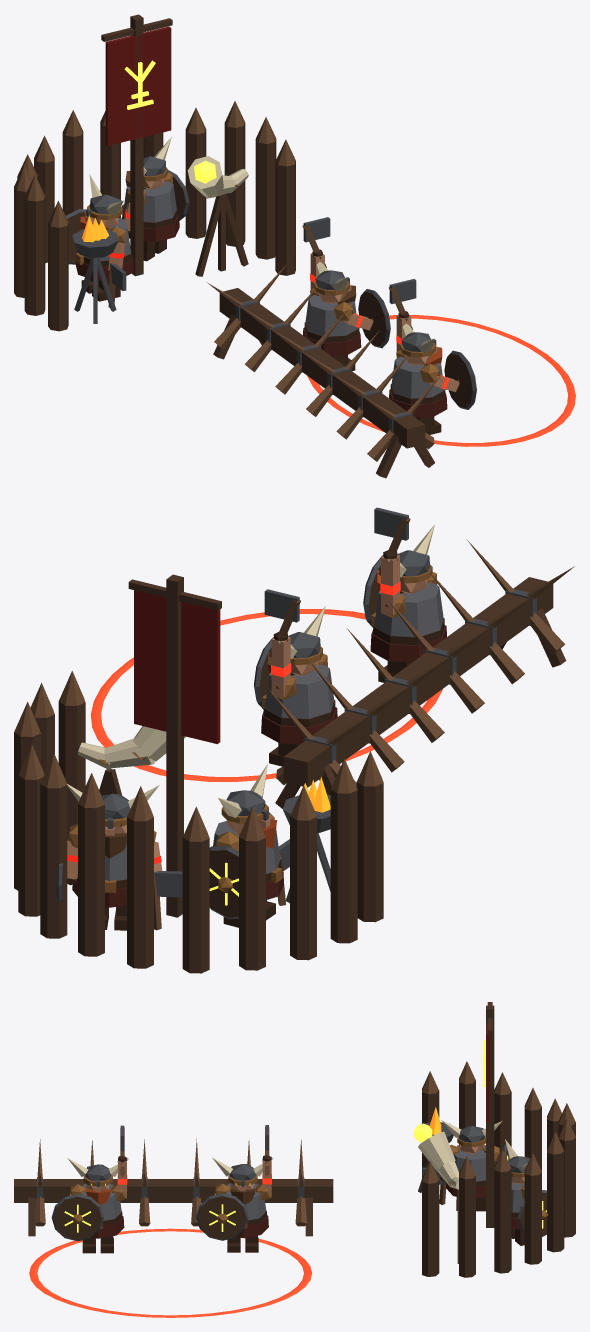
Rendered from berserker_camp_lvl2.glb.
3 renders of one model, top to bottom at view 1: azimuth 30°, elevation 25°; view 2: azimuth 150°, elevation 25°; view 3: azimuth 270°, elevation 25°, orthographic. The views are drawn at different scales.
Parts seen in each view (by area): view 1: Banner, Barricade_Log0, Palisade_10, BannerPole, Palisade_1, Palisade_0, RageAura, Palisade_11, Palisade_2, Palisade_3, Palisade_6, Berserker_F1_Body (+12 smaller); view 2: Barricade_Log0, Banner, BannerPole, Palisade_10, Palisade_5, Palisade_4, Palisade_6, Palisade_9, Palisade_7, Palisade_11, Palisade_8, Palisade_3 (+30 smaller); view 3: Barricade_Log0, RageAura, Palisade_2, Palisade_4, Palisade_0, Palisade_1, BannerPole, Palisade_3, Berserker_F0_ShieldDisc, Berserker_F1_ShieldDisc, Palisade_5, Palisade_9 (+10 smaller).
Boxes of the visible parts, <box> form: Banner: <box>105,26,171,145</box>; Barricade_Log0: <box>219,288,425,448</box>; Palisade_10: <box>24,196,45,315</box>; BannerPole: <box>130,14,143,276</box>; Palisade_1: <box>255,138,276,259</box>; Palisade_0: <box>275,161,295,275</box>; RageAura: <box>307,315,575,446</box>; Palisade_11: <box>48,222,68,331</box>; Palisade_2: <box>224,122,245,246</box>; Palisade_3: <box>185,129,206,238</box>; Palisade_6: <box>62,132,83,215</box>; Berserker_F1_Body: <box>305,295,358,336</box>; Barricade_Log0: <box>283,577,553,787</box>; Banner: <box>134,590,220,744</box>; BannerPole: <box>166,574,183,917</box>; Palisade_10: <box>330,789,357,943</box>; Palisade_5: <box>78,804,104,956</box>; Palisade_4: <box>40,784,67,938</box>; Palisade_6: <box>127,817,153,968</box>; Palisade_9: <box>290,816,316,960</box>; Palisade_7: <box>182,837,209,973</box>; Palisade_11: <box>356,782,383,922</box>; Palisade_8: <box>239,837,265,970</box>; Palisade_3: <box>18,775,42,916</box>; Barricade_Log0: <box>14,1179,333,1202</box>; RageAura: <box>29,1228,312,1317</box>; Palisade_2: <box>494,1168,511,1273</box>; Palisade_4: <box>547,1151,564,1252</box>; Palisade_0: <box>422,1180,439,1276</box>; Palisade_1: <box>459,1176,475,1277</box>; BannerPole: <box>486,1005,494,1227</box>; Palisade_3: <box>524,1172,541,1264</box>; Berserker_F0_ShieldDisc: <box>54,1196,101,1240</box>; Berserker_F1_ShieldDisc: <box>198,1196,246,1239</box>; Palisade_5: <box>559,1137,575,1237</box>; Palisade_9: <box>494,1092,511,1160</box>.
Bounding box in the file's own units: 2.84 × 2.01 × 4.66.
